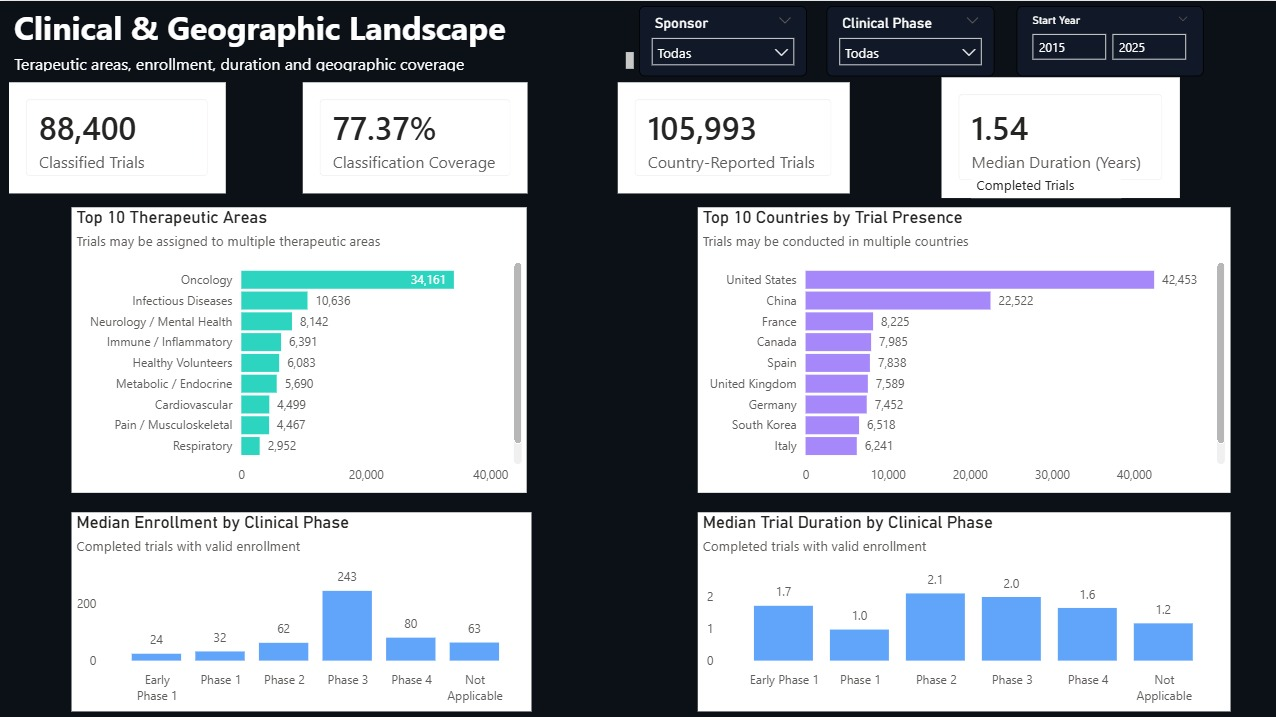

What the dashboard file says about the page in this screenshot:
{"tool":"powerbi","page":{"name":"Clinical Landscape","canvas":[1280,720],"ordinal":1},"visuals":[{"type":"textbox","box":[10.2,0,586.9,59.9],"z":0},{"type":"textbox","box":[10.2,59.9,629.2,29.2],"z":1000},{"type":"slicer","fields":{"Values":["clinical_trials.sponsor_category"]},"box":[639.4,4.4,167.9,70.1],"z":2000},{"type":"slicer","fields":{"Values":["clinical_trials.phase_category"]},"box":[827.7,4.4,167.9,70.1],"z":3000},{"type":"slicer","fields":{"Values":["clinical_trials.start_year"]},"box":[1017.5,4.4,186.9,70.1],"z":4000},{"type":"cardVisual","fields":{"Data":["KPI_Measures.Classified Trials"]},"box":[9.8,106.4,228.7,150.4],"z":5000},{"type":"cardVisual","fields":{"Data":["KPI_Measures.Therapeutic Classification Coverage"]},"box":[284.9,106.4,228.7,150.4],"z":6000},{"type":"cardVisual","fields":{"Data":["KPI_Measures.Trials with Country Data"]},"box":[578.4,107.6,228.7,150.4],"z":7000},{"type":"cardVisual","fields":{"Data":["KPI_Measures.Median Observed Duration"]},"box":[912.2,106.4,228.7,150.4],"z":8000},{"type":"clusteredBarChart","title":"Top 10 Therapeutic Areas","fields":{"Category":["trial_therapeutic_areas.therapeutic_area"],"Y":["KPI_Measures.Therapeutic Area Trials"]},"box":[10.5,273.3,400.3,413.7],"z":8001},{"type":"clusteredColumnChart","title":"Median Enrollment by Clinical Phase","fields":{"Category":["clinical_trials.phase_category"],"Y":["KPI_Measures.Median Enrollment"]},"box":[461.5,274.8,365.9,412.2],"z":8003},{"type":"clusteredBarChart","title":"Top 10 Countries by Trial Presence","fields":{"Category":["trial_countries.country"],"Y":["KPI_Measures.Country Trials"]},"box":[888.7,274.8,371.9,413.7],"z":8004},{"type":"textbox","box":[941,218.1,150.9,26.9],"z":8005}]}

Visuals, with their boxes in screenshot pixels (x1, y1, x2, y2), scaled from the page's 1280x720 canvas onto the 1276x717 screenshot:
textbox: x1=10, y1=0, x2=595, y2=60
textbox: x1=10, y1=60, x2=637, y2=89
slicer - clinical_trials.sponsor_category: x1=637, y1=4, x2=805, y2=74
slicer - clinical_trials.phase_category: x1=825, y1=4, x2=992, y2=74
slicer - clinical_trials.start_year: x1=1014, y1=4, x2=1201, y2=74
cardVisual - KPI_Measures.Classified Trials: x1=10, y1=106, x2=238, y2=256
cardVisual - KPI_Measures.Therapeutic Classification Coverage: x1=284, y1=106, x2=512, y2=256
cardVisual - KPI_Measures.Trials with Country Data: x1=577, y1=107, x2=805, y2=257
cardVisual - KPI_Measures.Median Observed Duration: x1=909, y1=106, x2=1137, y2=256
"Top 10 Therapeutic Areas" clusteredBarChart: x1=10, y1=272, x2=410, y2=684
"Median Enrollment by Clinical Phase" clusteredColumnChart: x1=460, y1=274, x2=825, y2=684
"Top 10 Countries by Trial Presence" clusteredBarChart: x1=886, y1=274, x2=1257, y2=686
textbox: x1=938, y1=217, x2=1088, y2=244
